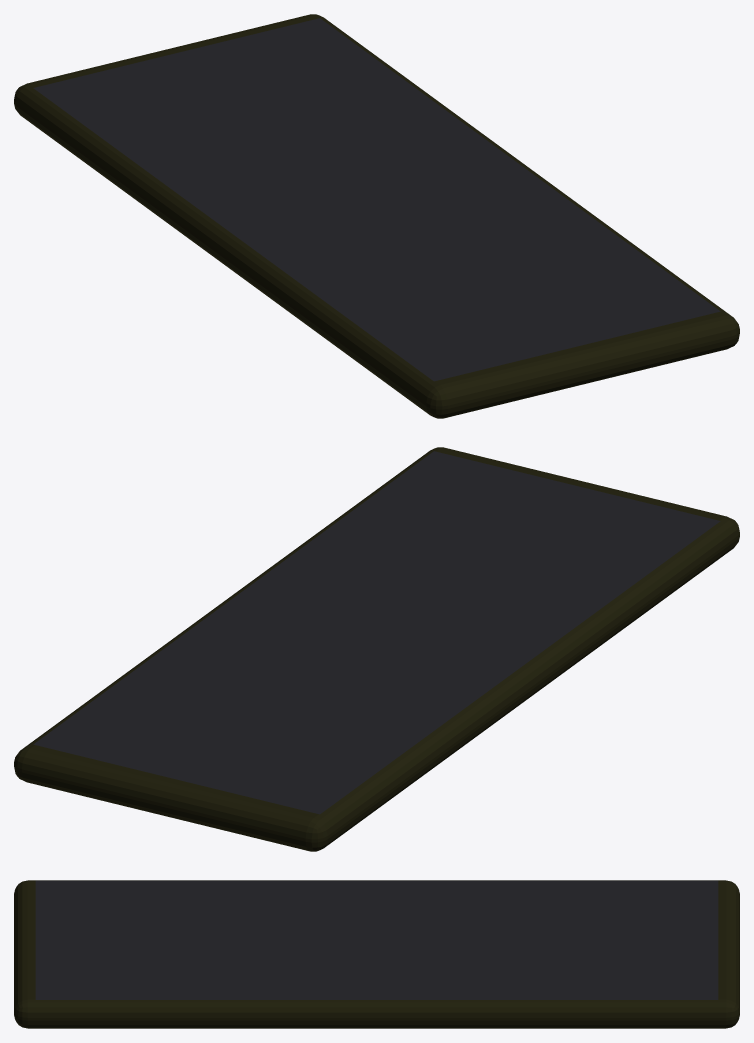
Rendered from Phone_868.glb.
3 renders of one model, top to bottom at view 1: azimuth 30°, elevation 25°; view 2: azimuth 150°, elevation 25°; view 3: azimuth 270°, elevation 25°, orthographic. The views are drawn at different scales.
Parts seen in each view (by area): view 1: Phone_Screen, Phone_Body; view 2: Phone_Screen, Phone_Body; view 3: Phone_Screen, Phone_Body.
Boxes of the visible parts, left/top/right/bottom form: Phone_Screen: left=33, top=18, right=720, bottom=381; Phone_Body: left=14, top=14, right=739, bottom=418; Phone_Screen: left=33, top=451, right=720, bottom=814; Phone_Body: left=14, top=447, right=739, bottom=851; Phone_Screen: left=35, top=880, right=718, bottom=999; Phone_Body: left=14, top=880, right=739, bottom=1028.
Size of the model in its own units: 0.0714 by 0.0072 by 0.1692.
